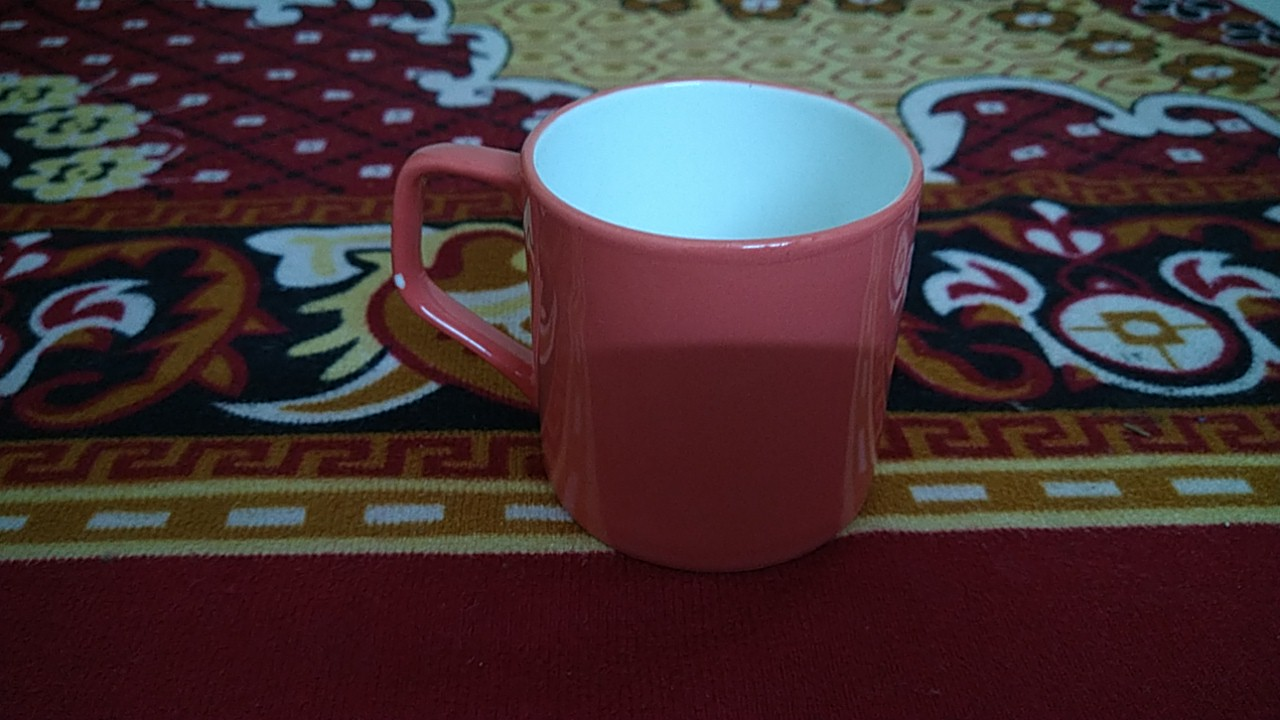cup: (373, 64, 931, 586)
